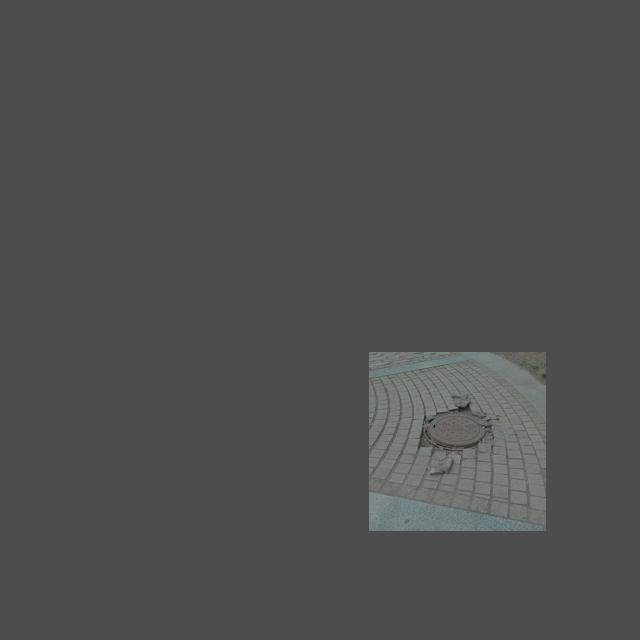circle: (411, 401, 503, 459)
